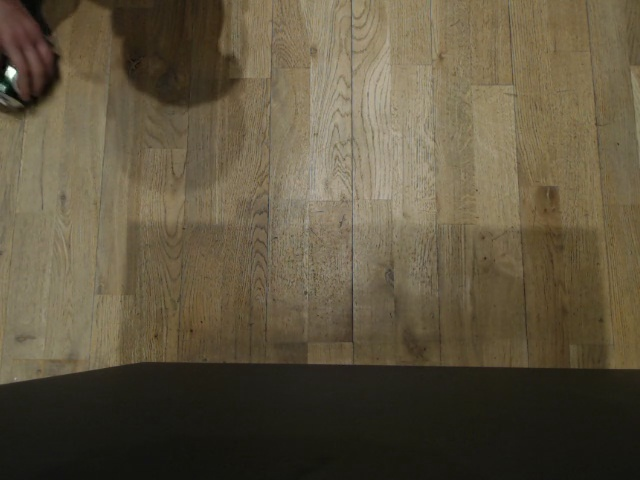beer: (0, 36, 60, 109)
